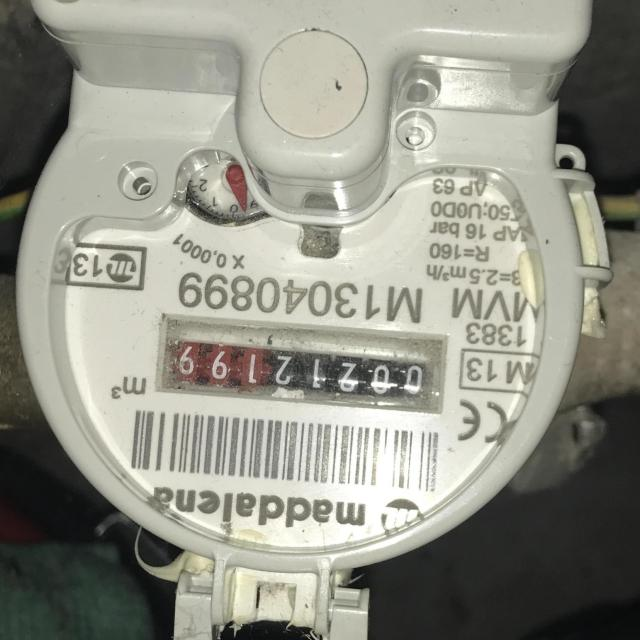gaz_meter: (49, 79, 548, 553)
indication: (161, 320, 441, 410)
